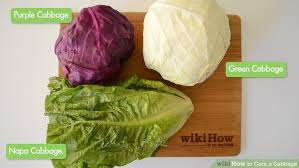cabbage: (39, 83, 202, 165), (145, 3, 229, 85), (50, 6, 138, 83)
